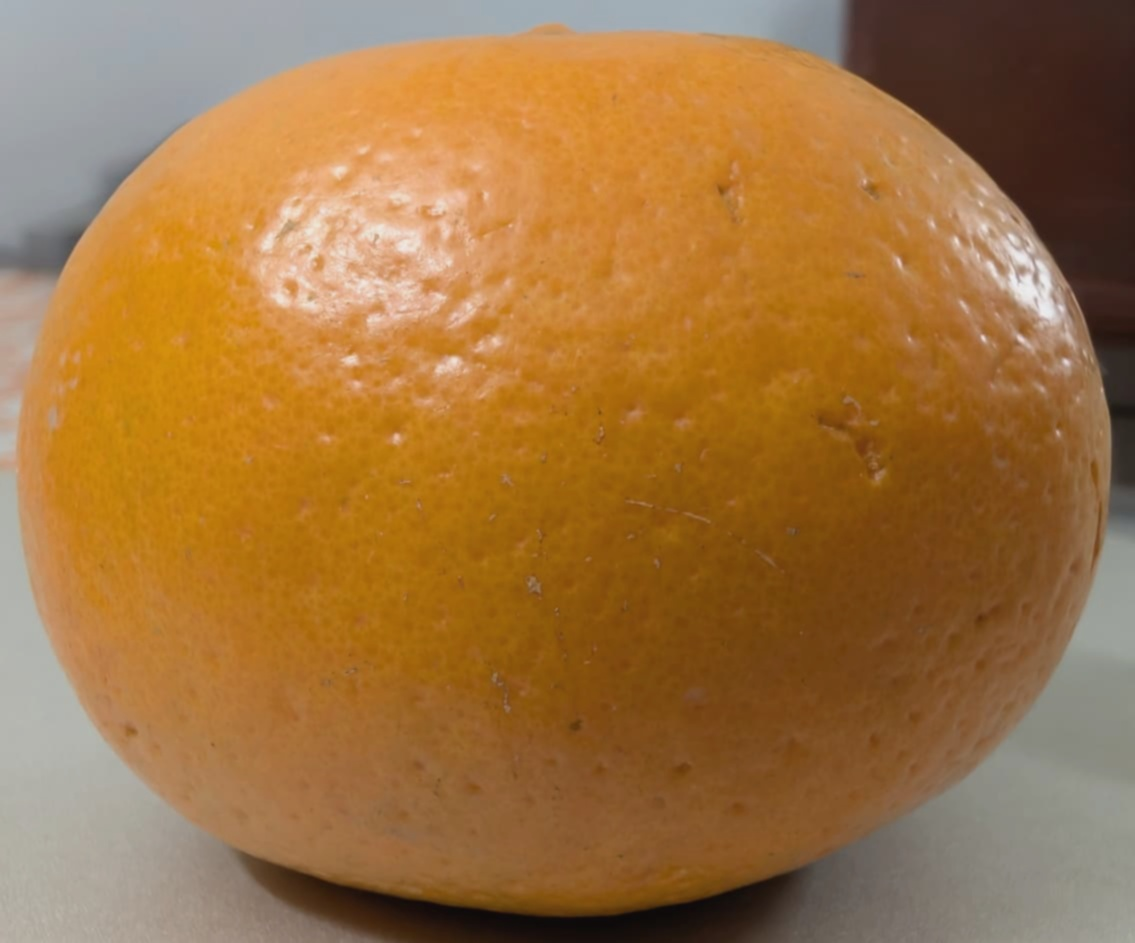orange: (213, 190, 1000, 763)
